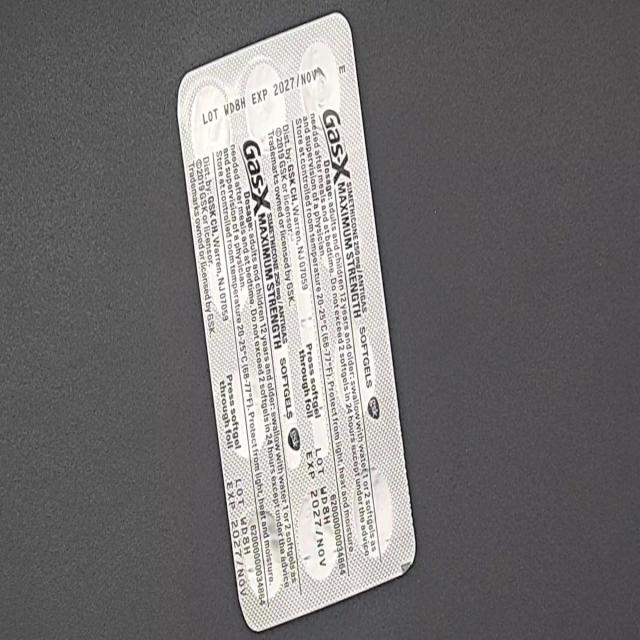no defect: (10, 19, 40, 77)
